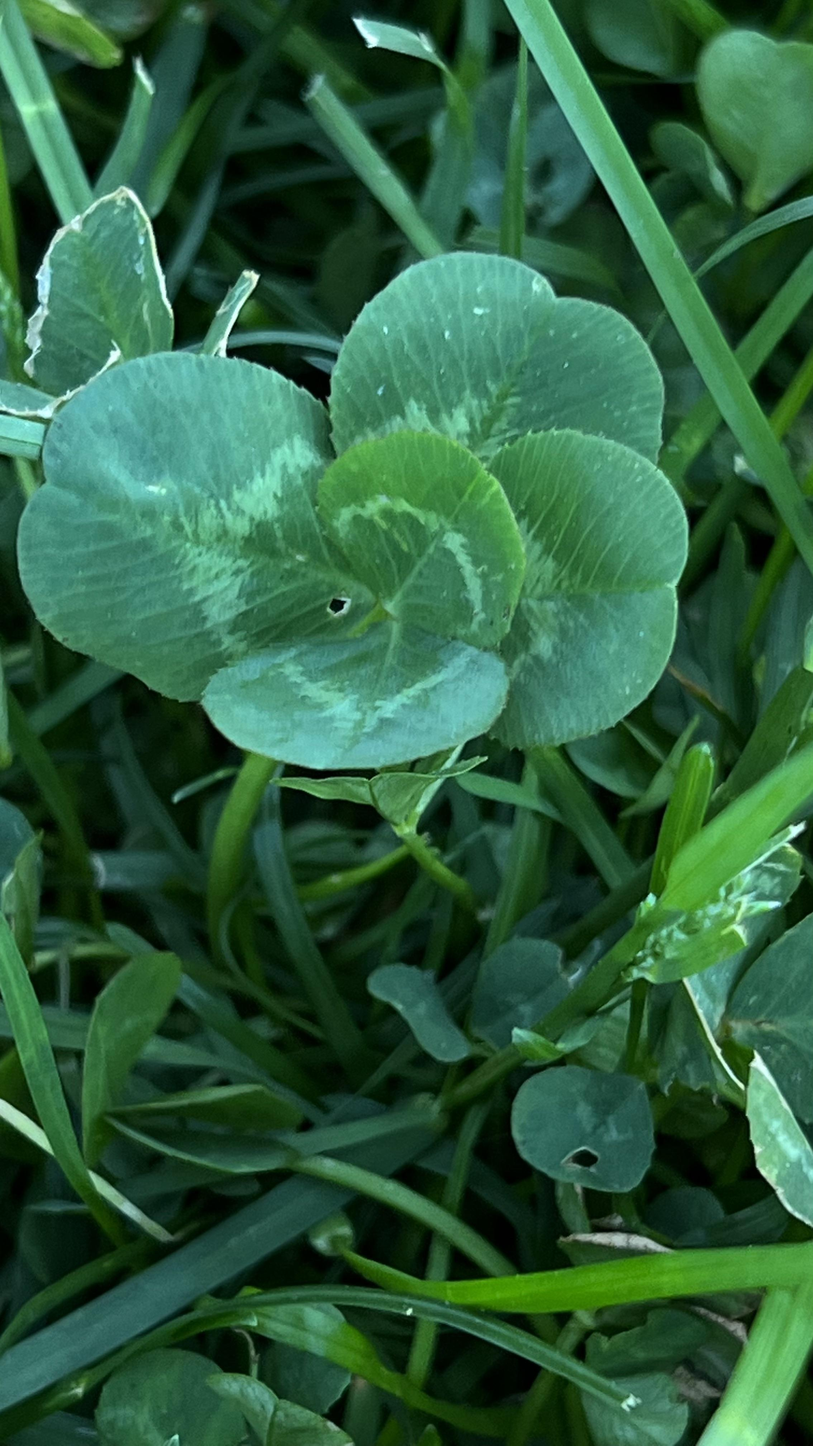5-Leaf-Clovers: (143, 210, 432, 1413)
